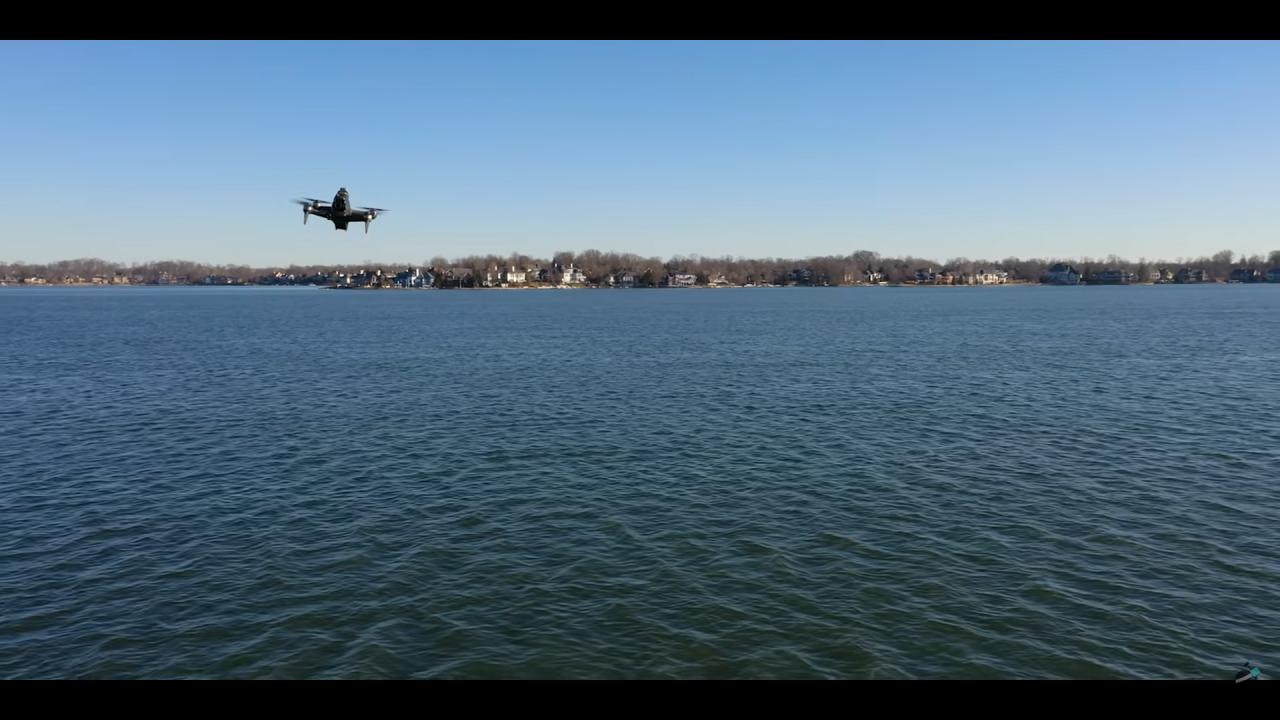Drone: (287, 178, 393, 240)
